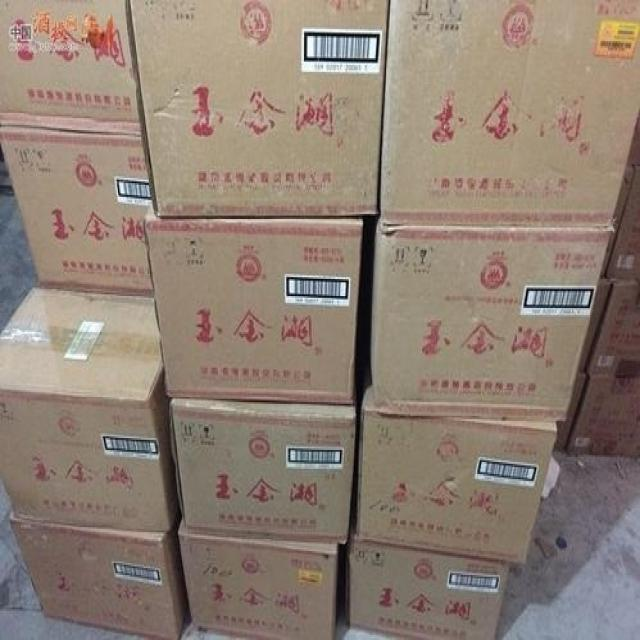Carton: (372, 229, 611, 412), (355, 421, 552, 561), (171, 406, 351, 544), (17, 527, 176, 635), (351, 544, 508, 638)
